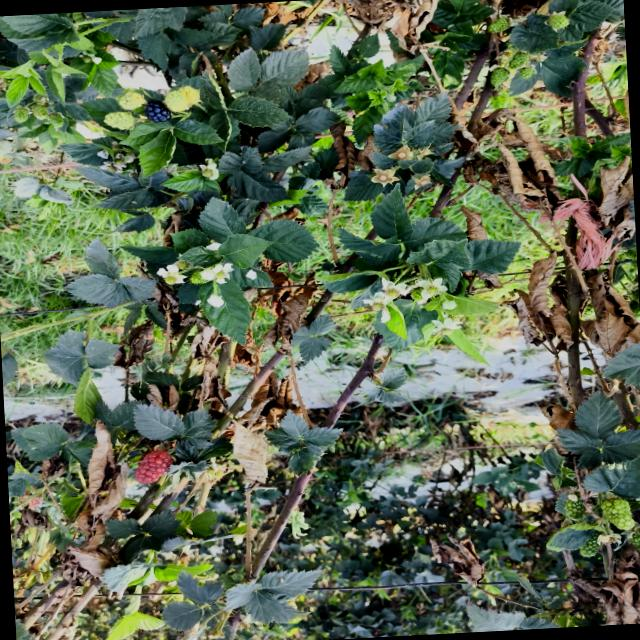maduro: (145, 101, 171, 123)
naranja: (135, 450, 173, 483)
verde: (601, 498, 635, 530), (164, 86, 200, 112), (563, 492, 586, 520), (580, 531, 602, 557), (117, 91, 146, 110), (104, 112, 134, 130), (491, 68, 509, 88), (547, 14, 569, 30), (509, 52, 528, 69), (488, 18, 509, 33), (14, 105, 30, 124), (48, 113, 65, 129), (31, 104, 48, 120), (631, 529, 640, 553), (519, 67, 533, 79)
